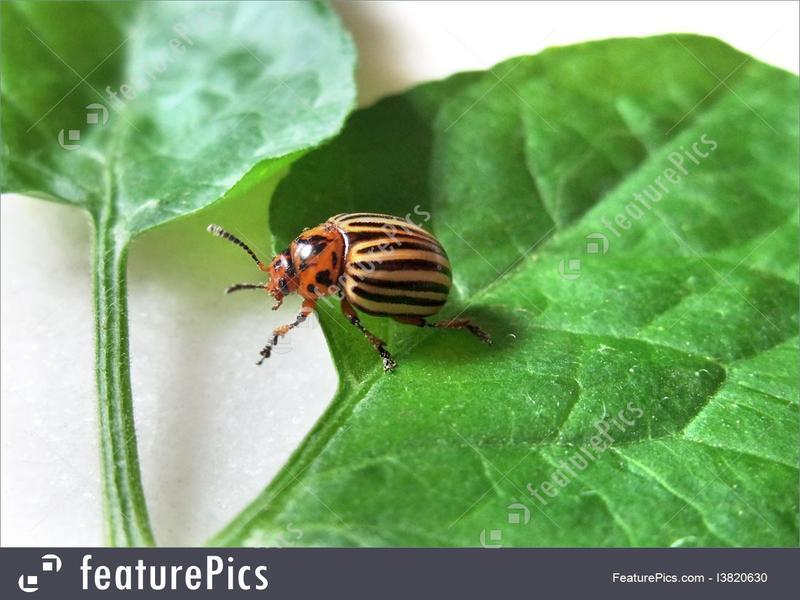hrosc: (212, 182, 457, 353)
